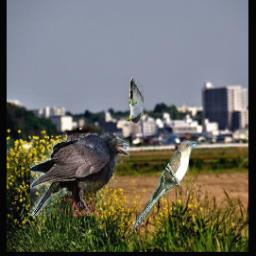Crow: (31, 133, 130, 216)
Cuckoo: (133, 140, 198, 231), (127, 77, 145, 123)
